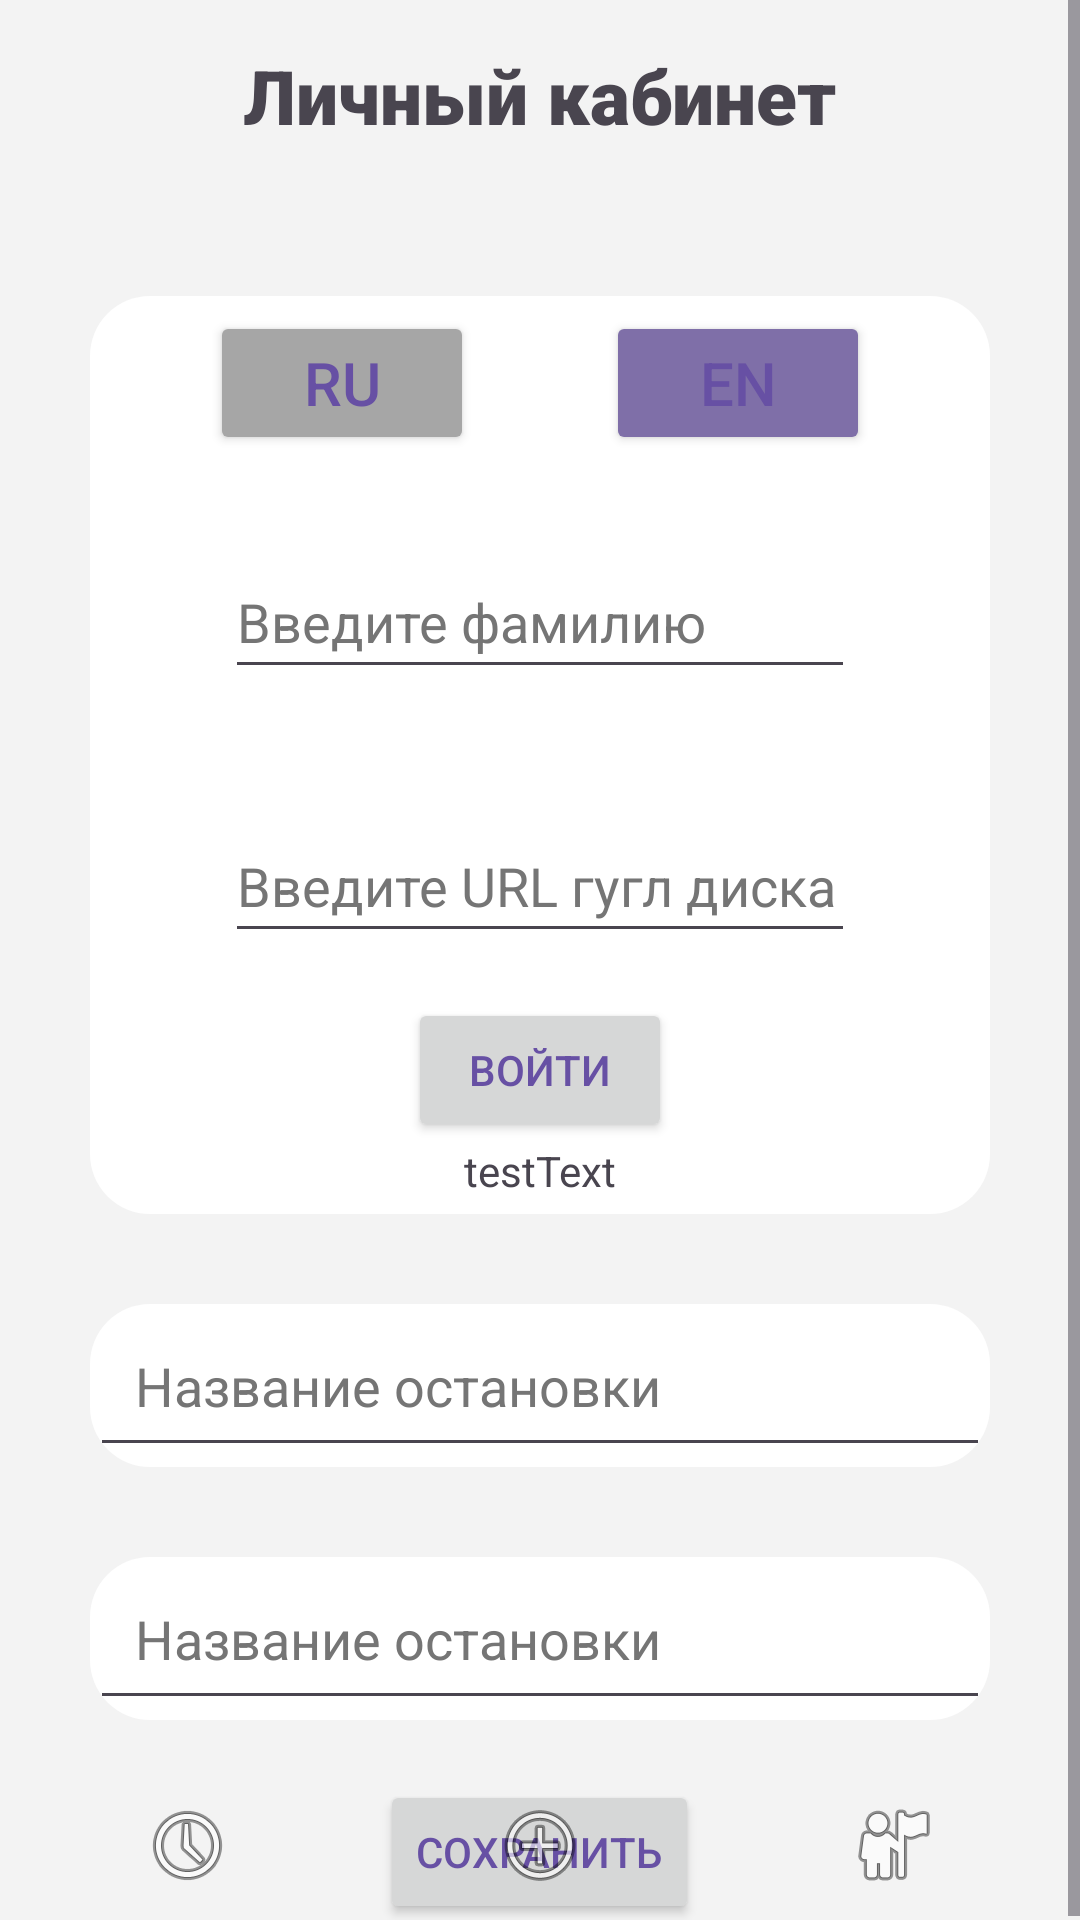

Locate icon controls on the screen. Image size 1080px x 1920px, boxes as BBox(x1, y1, x2, y2).
recent history: BBox(153, 1811, 222, 1880)
